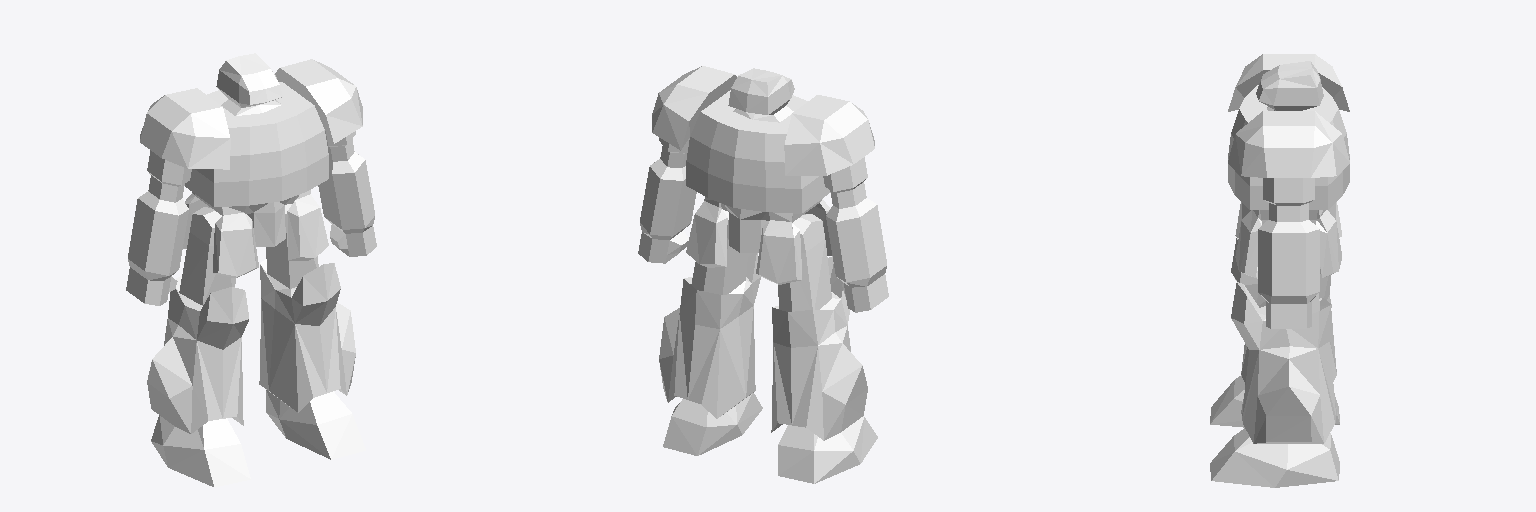
Rendered from gh_buruburu.obj.
3 views of the same model, side by side, from view 1: azimuth 30°, elevation 25°; view 2: azimuth 150°, elevation 25°; view 3: azimuth 270°, elevation 25° (orthographic).
Parts seen in each view (by area): view 1: buruburu_buruburu_auv; view 2: buruburu_buruburu_auv; view 3: buruburu_buruburu_auv.
Part boxes in pixels (x1,y1,x2,y2): buruburu_buruburu_auv: (126, 53, 376, 487); buruburu_buruburu_auv: (638, 66, 888, 483); buruburu_buruburu_auv: (1210, 54, 1349, 487).
Size of the model in its own units: 0.4655 by 0.7186 by 0.2434.